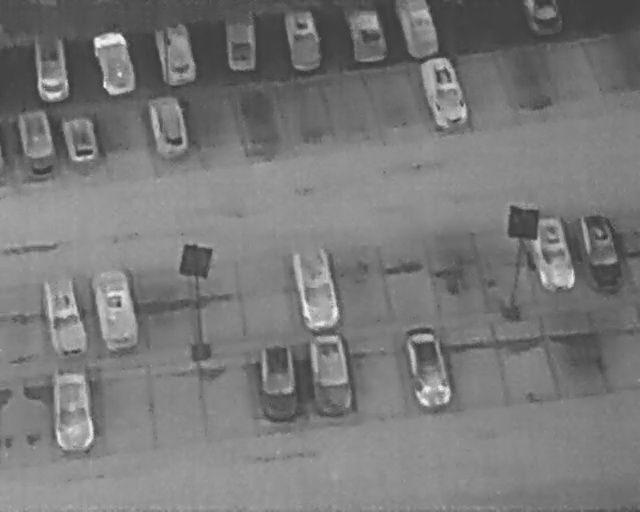Car: (415, 49, 474, 134), (401, 322, 456, 413), (290, 243, 344, 335), (89, 265, 142, 355), (305, 328, 357, 419), (40, 270, 91, 361), (526, 209, 579, 296), (574, 206, 626, 293), (49, 369, 96, 454), (256, 342, 301, 425), (142, 91, 193, 164), (150, 17, 200, 90), (89, 28, 139, 98), (13, 107, 59, 180), (281, 6, 326, 75), (343, 1, 390, 66), (29, 33, 72, 104), (57, 107, 103, 169), (393, 0, 441, 58), (221, 10, 259, 74), (522, 0, 563, 37)
